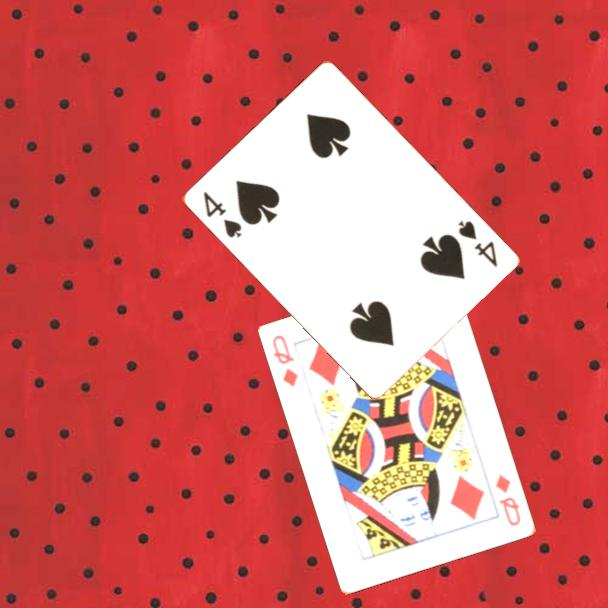d12: (492, 471, 524, 529), (269, 332, 301, 390)
s04: (454, 217, 500, 270), (199, 188, 244, 241)
